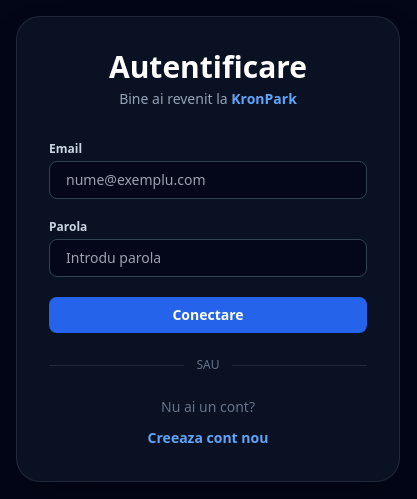
Scenario: Login Page › disables submit button while request is in progress
Note: Fill and submit
Type "user@test.com" into the field with placeholder "nume@exemplu.com" at (208, 180), box [49,161,367,199]
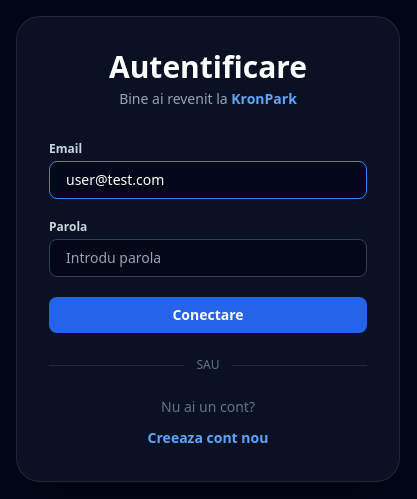
Type "password" into the password field with placeholder "Introdu parola" at (208, 258), box [49,239,367,277]
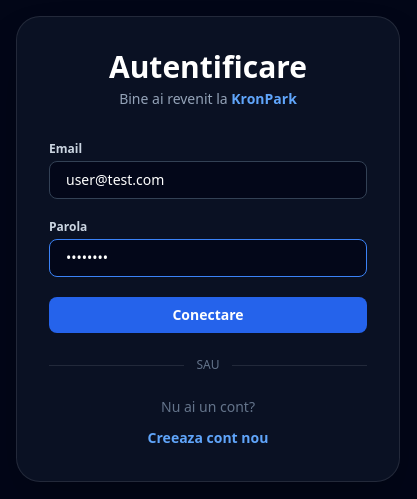
Click the button "Conectare" at (208, 315), box [49,297,367,333]
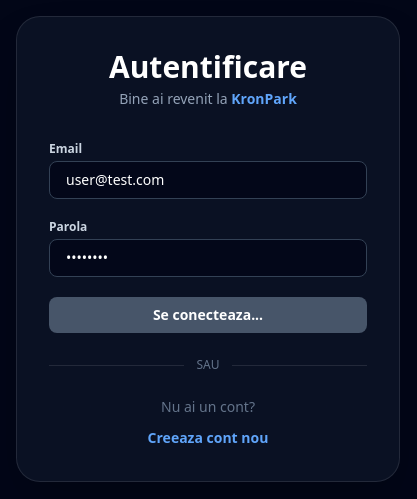
Now the button named "Conectare" is disabled, box [49,297,367,333]
